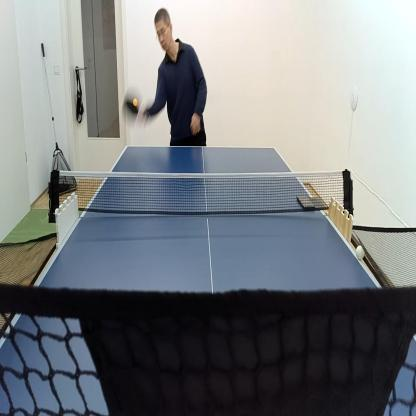Ball: (356, 246, 364, 260), (134, 98, 138, 104)
